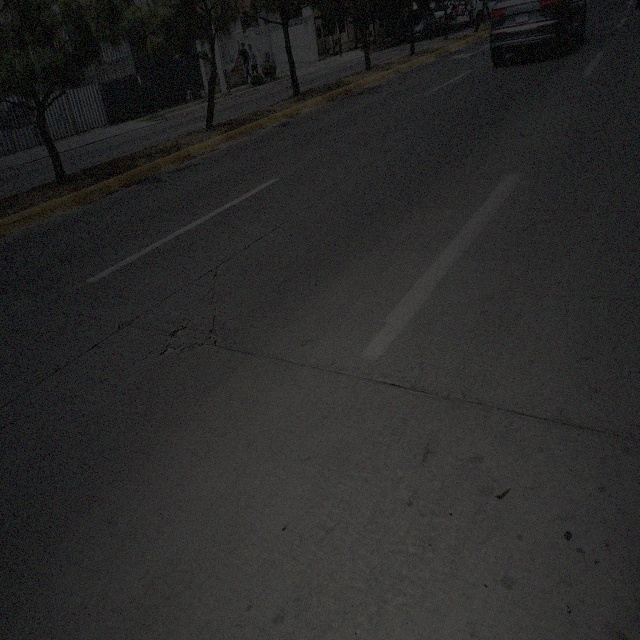pothole: (208, 313, 219, 345), (169, 323, 188, 338)
